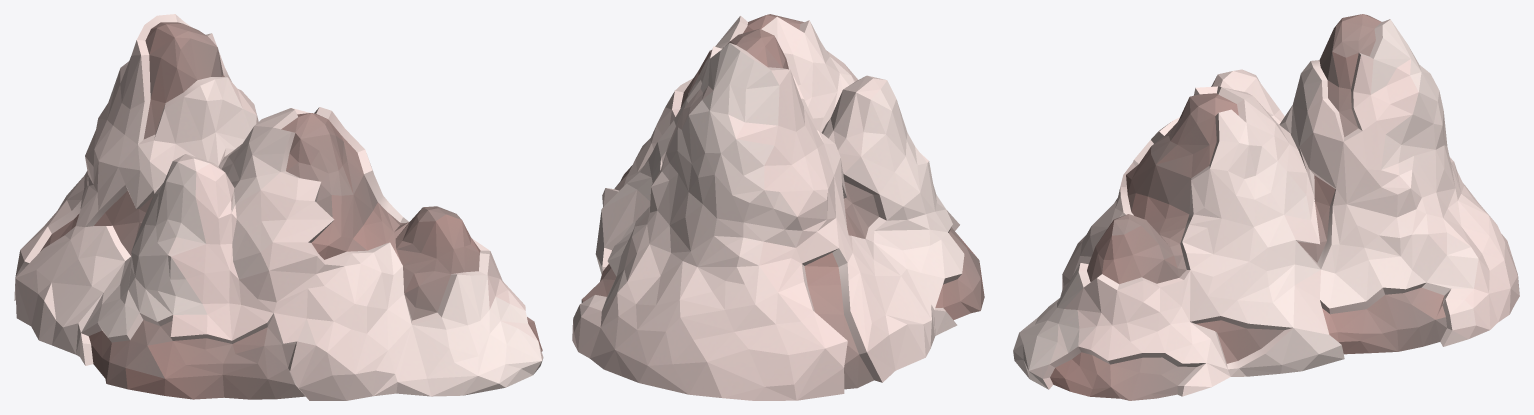
Rendered from Mountain_3A.fbx.
The picture shows the model from 3 angles, left to right: view 1: azimuth 30°, elevation 25°; view 2: azimuth 150°, elevation 25°; view 3: azimuth 270°, elevation 25°; orthographic projection. The views are drawn at different scales.
Parts seen in each view (by area): view 1: Group51983; view 2: Group51983; view 3: Group51983.
Boxes of the visible parts, bbox=[...] form: Group51983: bbox=[14, 14, 543, 400]; Group51983: bbox=[572, 14, 984, 400]; Group51983: bbox=[1013, 14, 1519, 400].
Size of the model in its own units: 46.65 by 32.04 by 53.94.
1 material, 1 textured.
